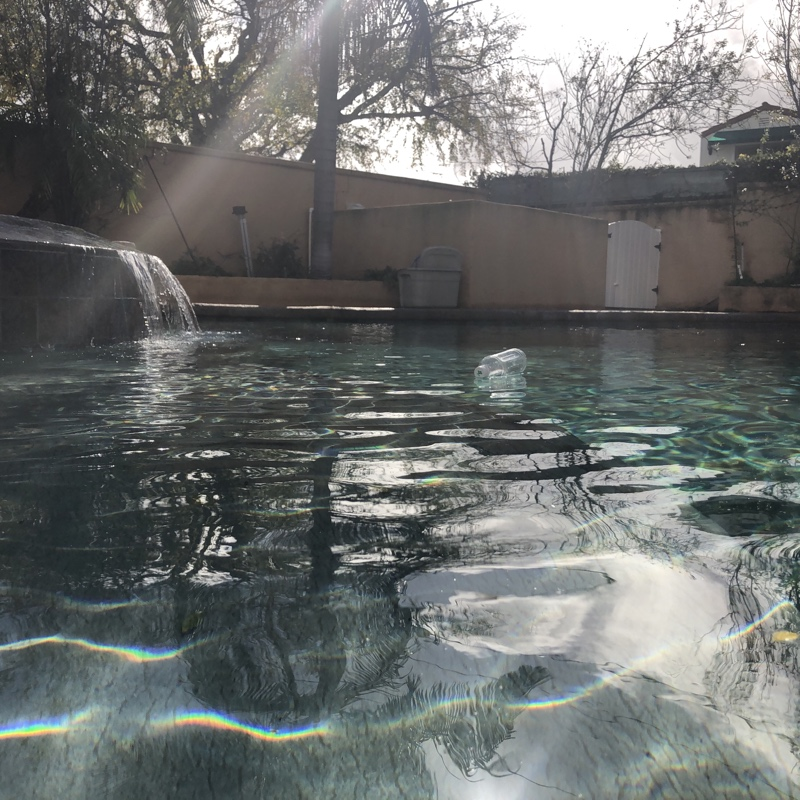Plastic Bottle: (469, 348, 531, 386)
